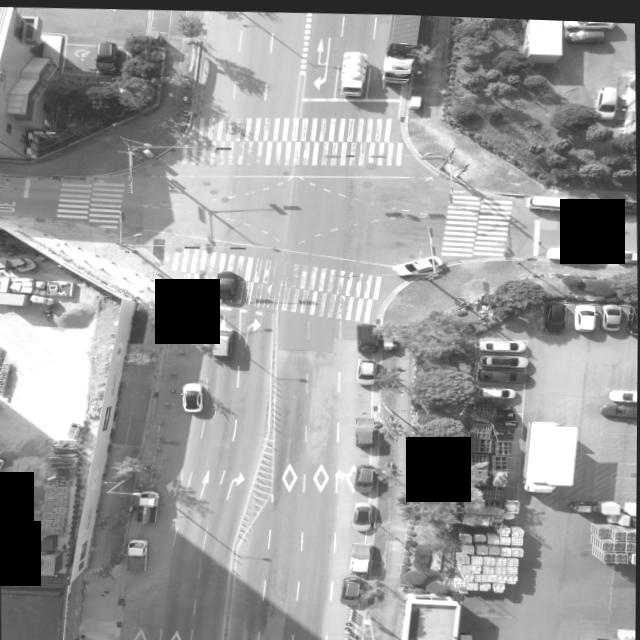car: (393, 252, 443, 272), (529, 192, 583, 209), (215, 269, 243, 301), (595, 81, 622, 114), (354, 319, 380, 351), (93, 41, 118, 73), (209, 327, 235, 357), (550, 243, 601, 258), (546, 297, 571, 327), (480, 364, 528, 378), (564, 22, 606, 38), (181, 381, 204, 410), (352, 498, 375, 527), (482, 351, 529, 365), (354, 461, 376, 490), (342, 574, 364, 602), (481, 338, 527, 351), (355, 355, 377, 382), (591, 194, 634, 207), (576, 302, 598, 326), (601, 398, 638, 412), (603, 302, 623, 326), (560, 16, 612, 25), (482, 381, 517, 393), (610, 383, 638, 396), (628, 303, 638, 329), (614, 246, 637, 257)
large_truck: (381, 11, 426, 81)
medium_truck: (526, 412, 582, 488), (338, 47, 370, 96)
small_truck: (348, 538, 374, 571), (136, 488, 160, 522), (353, 411, 376, 444), (128, 537, 151, 569)
